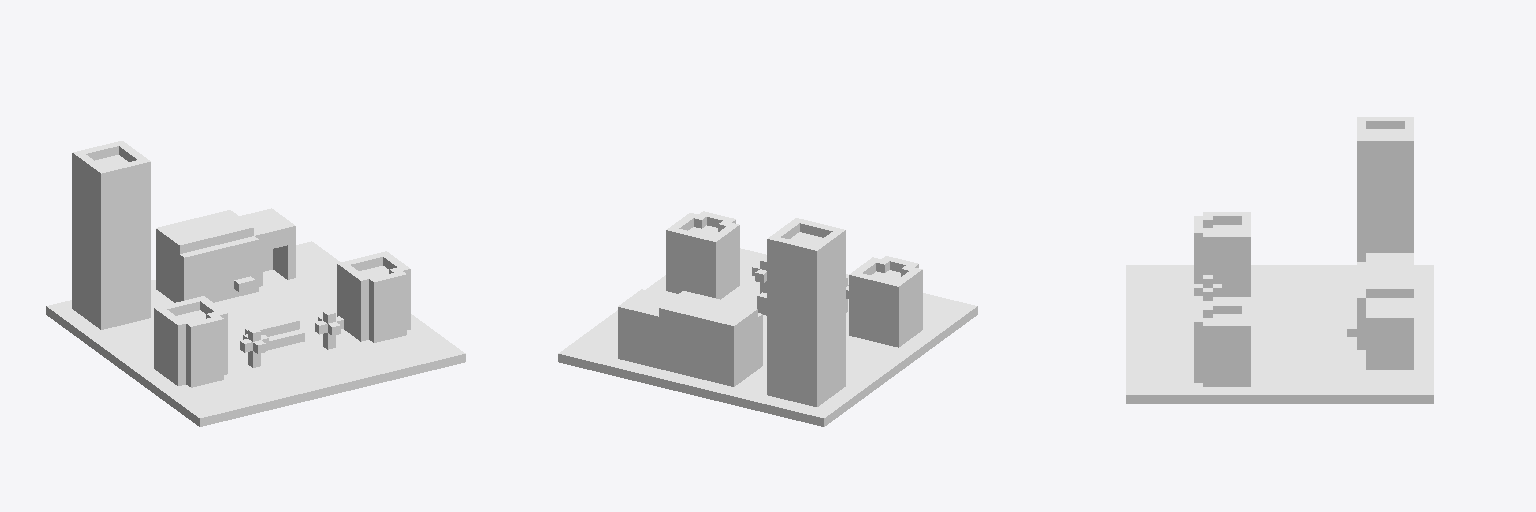
The model's file is house4.obj.
3 renders of one model, left to right at view 1: azimuth 30°, elevation 25°; view 2: azimuth 150°, elevation 25°; view 3: azimuth 270°, elevation 25°, orthographic.
Parts seen in each view (by area): view 1: object 1; view 2: object 1; view 3: object 1.
Part boxes in pixels (x1,y1,x2,y2): object 1: (46,141,465,426); object 1: (558,211,977,426); object 1: (1126,117,1433,403).
Bounding box in the file's own units: 3.2 × 1.9 × 3.2.